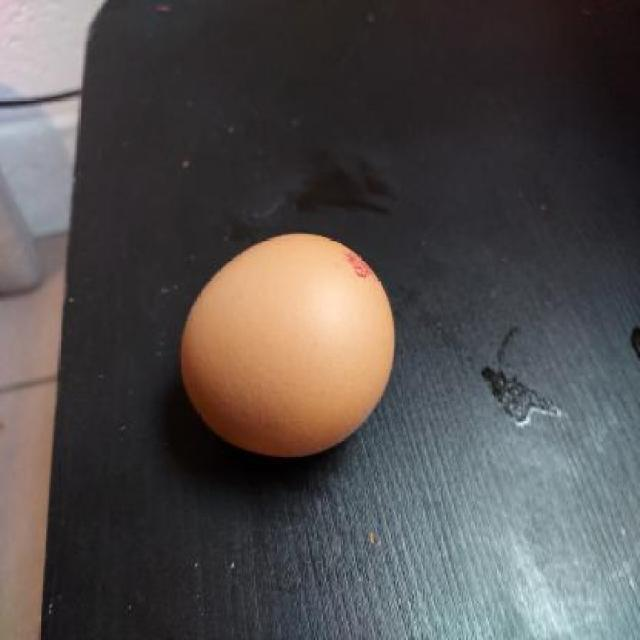biodegradable: (176, 234, 399, 468)
